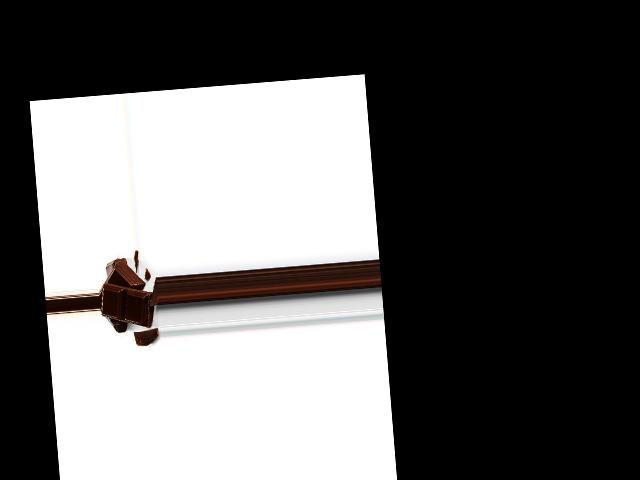chocolate: (101, 279, 154, 329)
